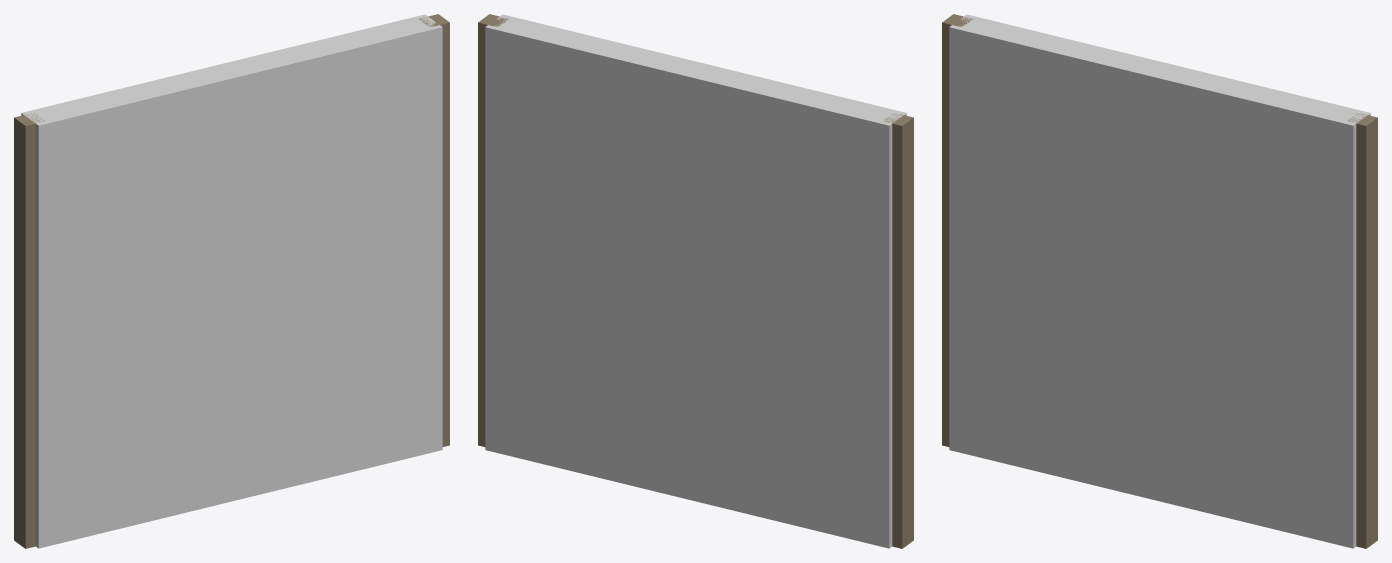
Rendered from wall_wood.glb.
The picture shows the model from 3 angles, left to right: view 1: azimuth 30°, elevation 25°; view 2: azimuth 150°, elevation 25°; view 3: azimuth 330°, elevation 25°; orthographic projection.
Visible parts, largest first — view 1: wall_wood; view 2: wall_wood; view 3: wall_wood.
Part boxes in pixels (left/top/right/bottom): wall_wood: left=14, top=14, right=449, bottom=548; wall_wood: left=478, top=14, right=913, bottom=548; wall_wood: left=942, top=14, right=1377, bottom=548.
Bounding box in the file's own units: 2.1 × 2 × 0.15.
